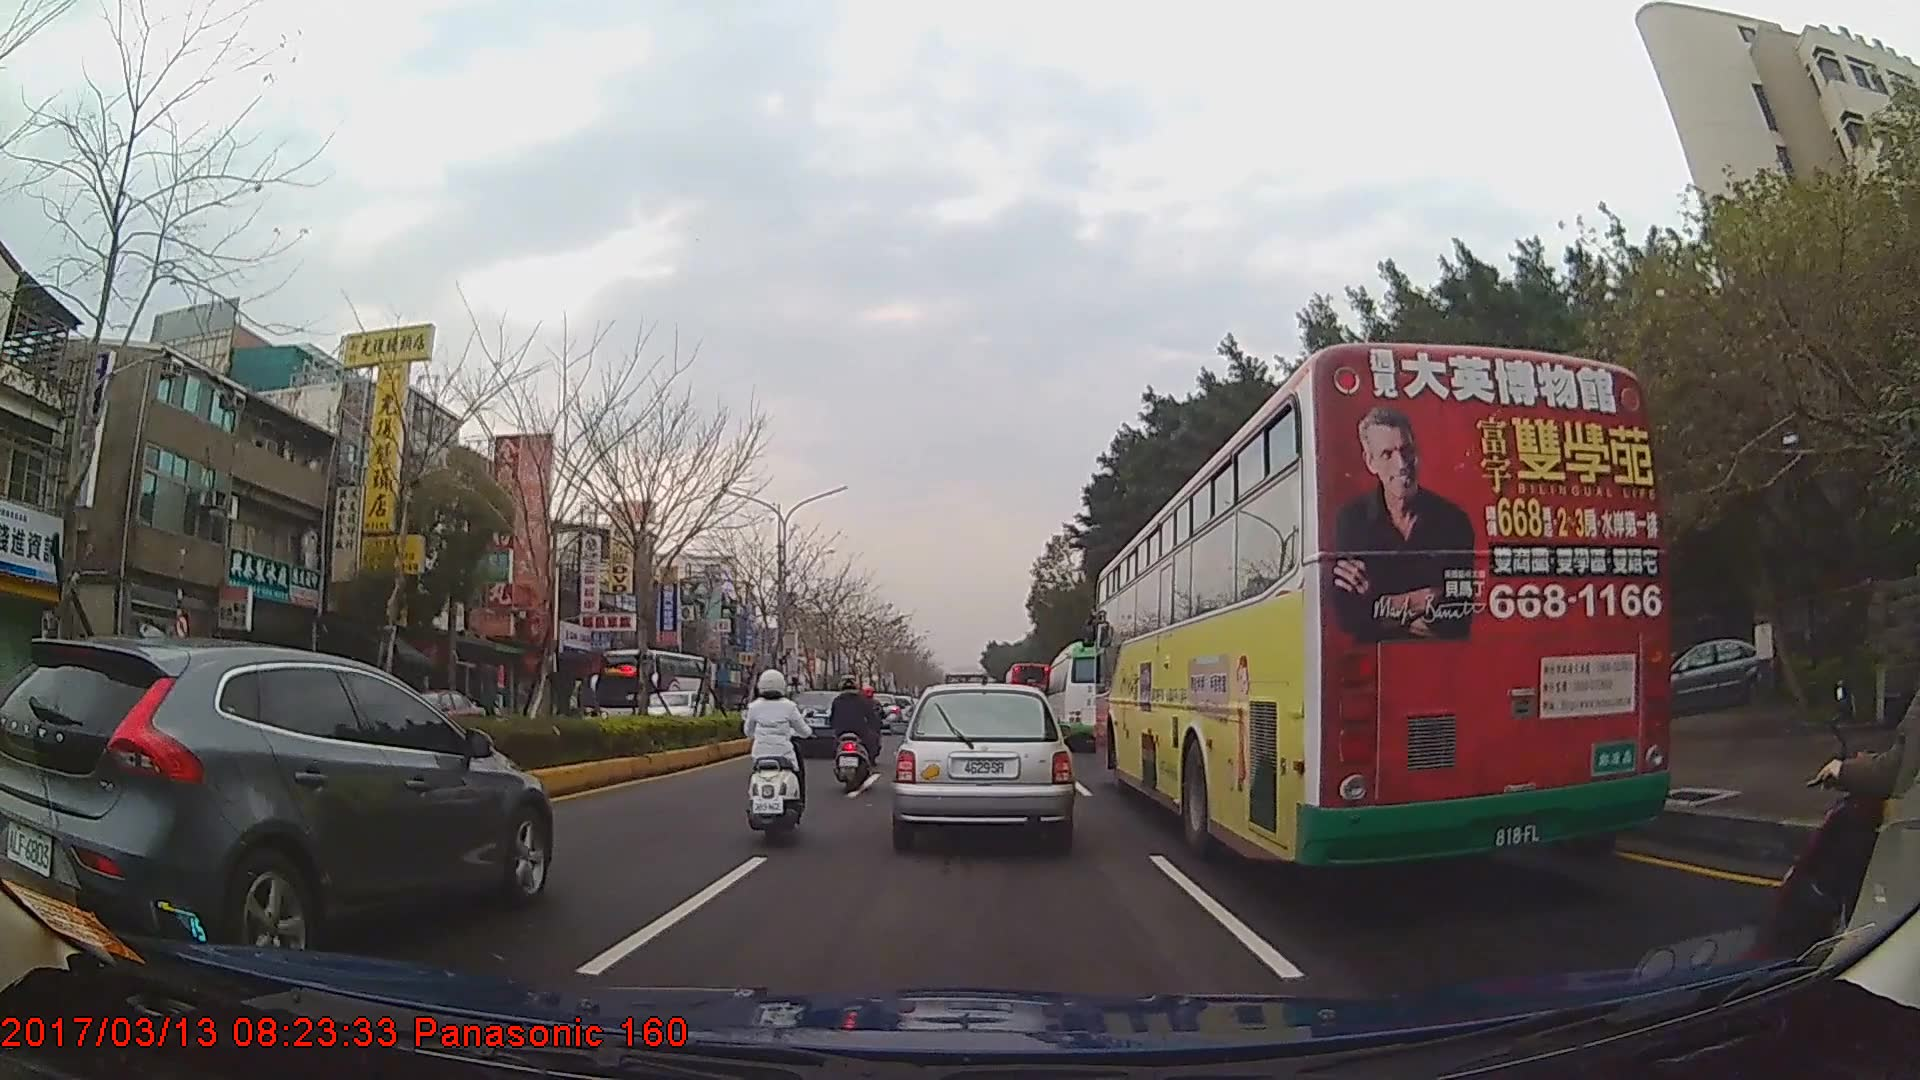rider: (1769, 541, 1920, 1004), (737, 668, 810, 844), (825, 676, 882, 791)
vehicle: (1096, 338, 1672, 868), (0, 629, 551, 964), (894, 680, 1072, 849), (594, 645, 712, 732), (1040, 640, 1124, 755), (781, 687, 867, 756), (386, 687, 485, 741), (631, 688, 712, 738), (1003, 651, 1053, 723)
